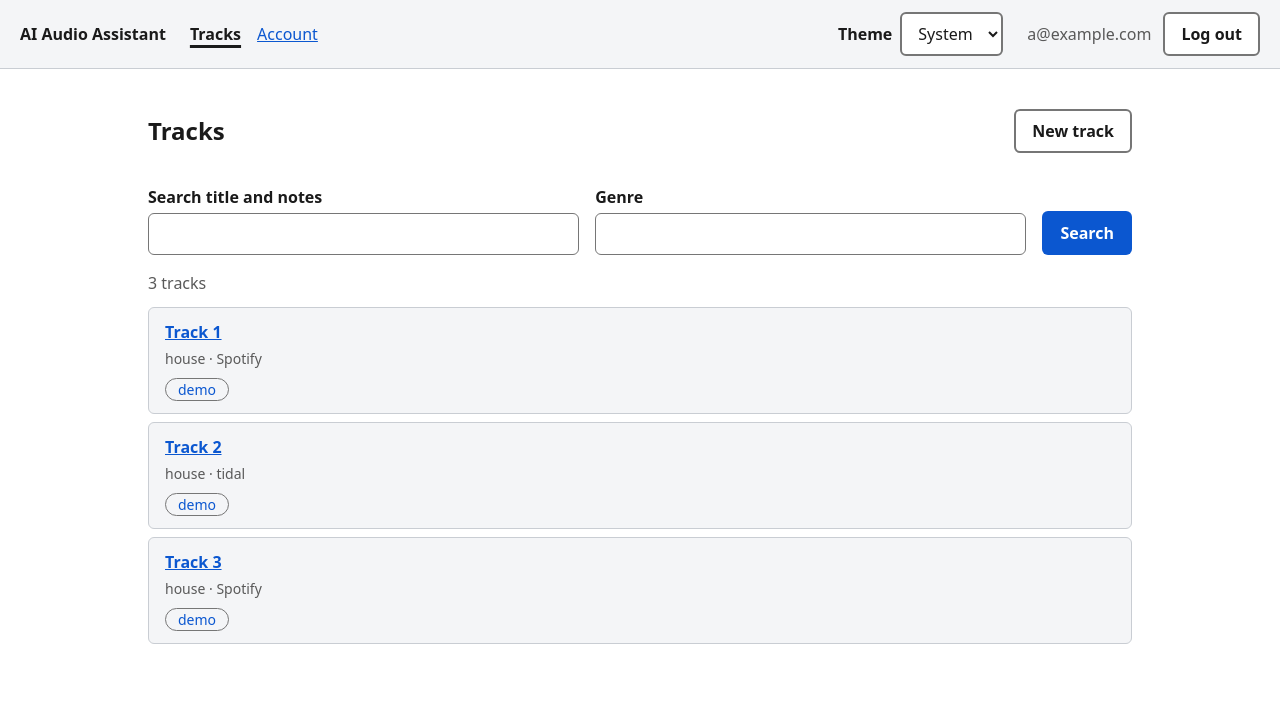
Test: creating a track › goes to the new track after saving
The width and height of the screenshot is (1280, 720).
Check: the link "Track 1" is shown, box [165,321,222,343]
Click the button "New track": (1073, 131) [1014,109,1132,153]
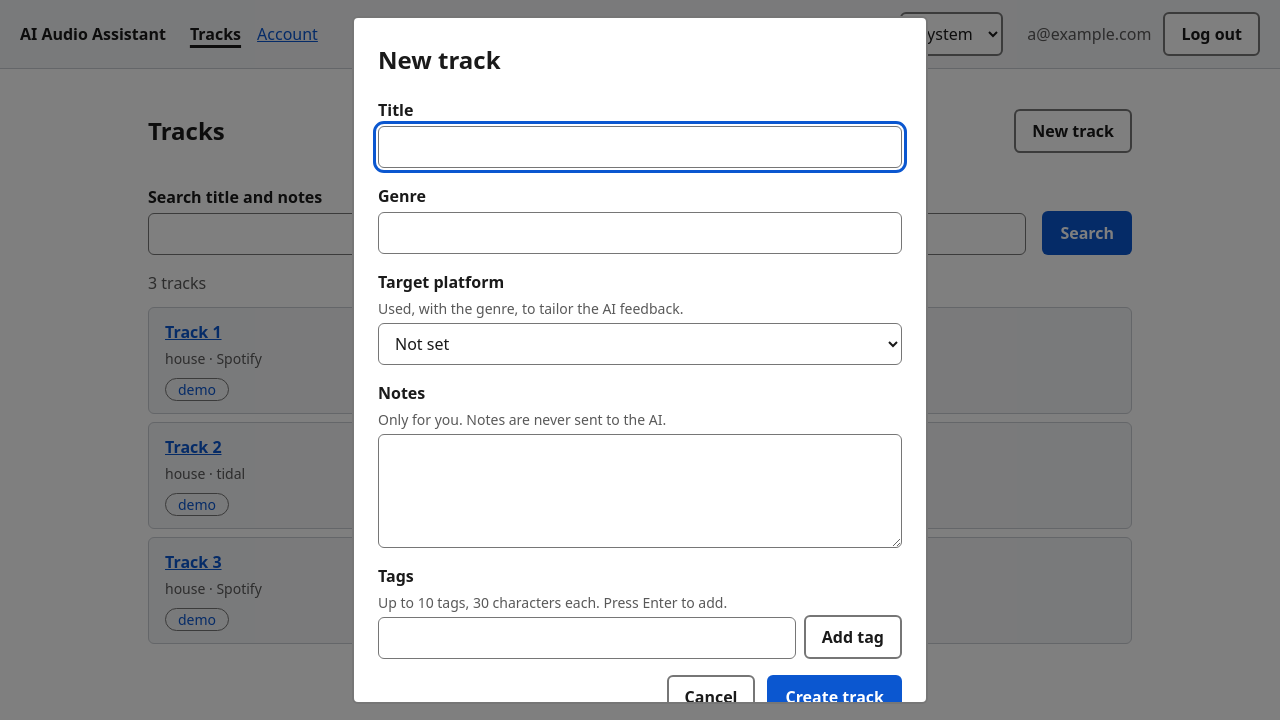
In the field labelled "Title": (640, 147) [378,126,902,168], type "Brand new"
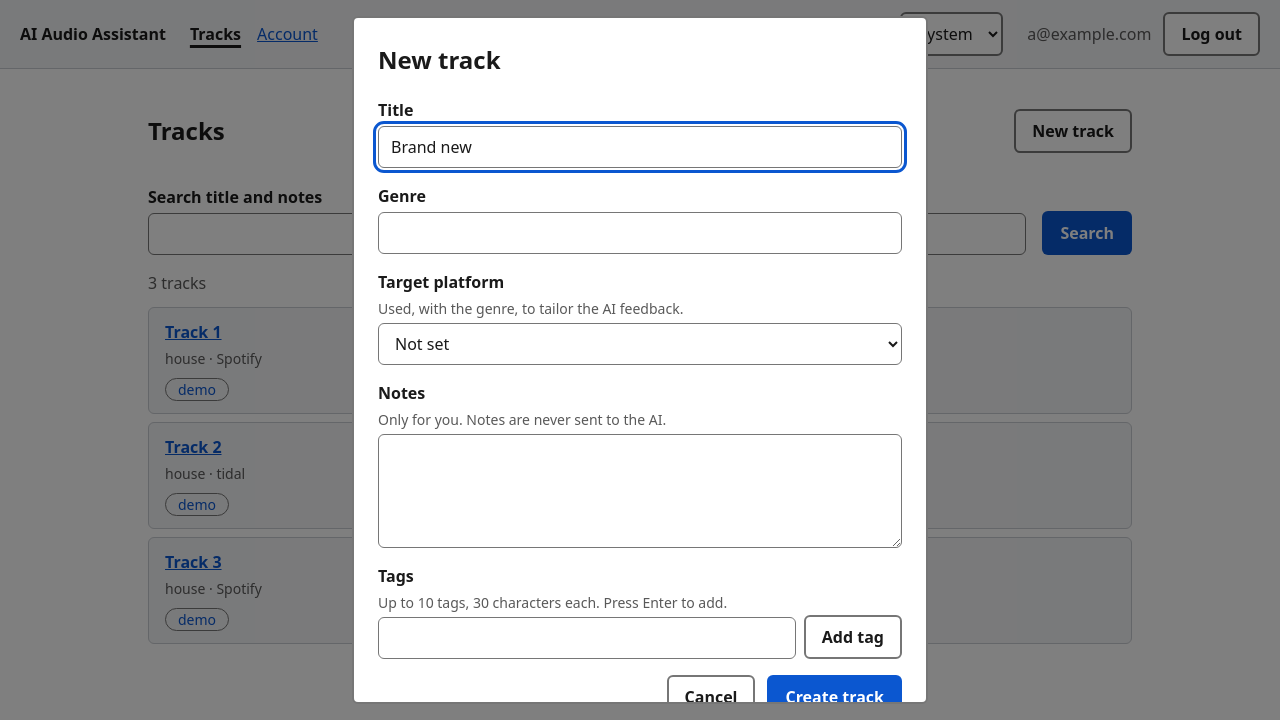
Click the button "Create track": (835, 697) [768,675,902,719]
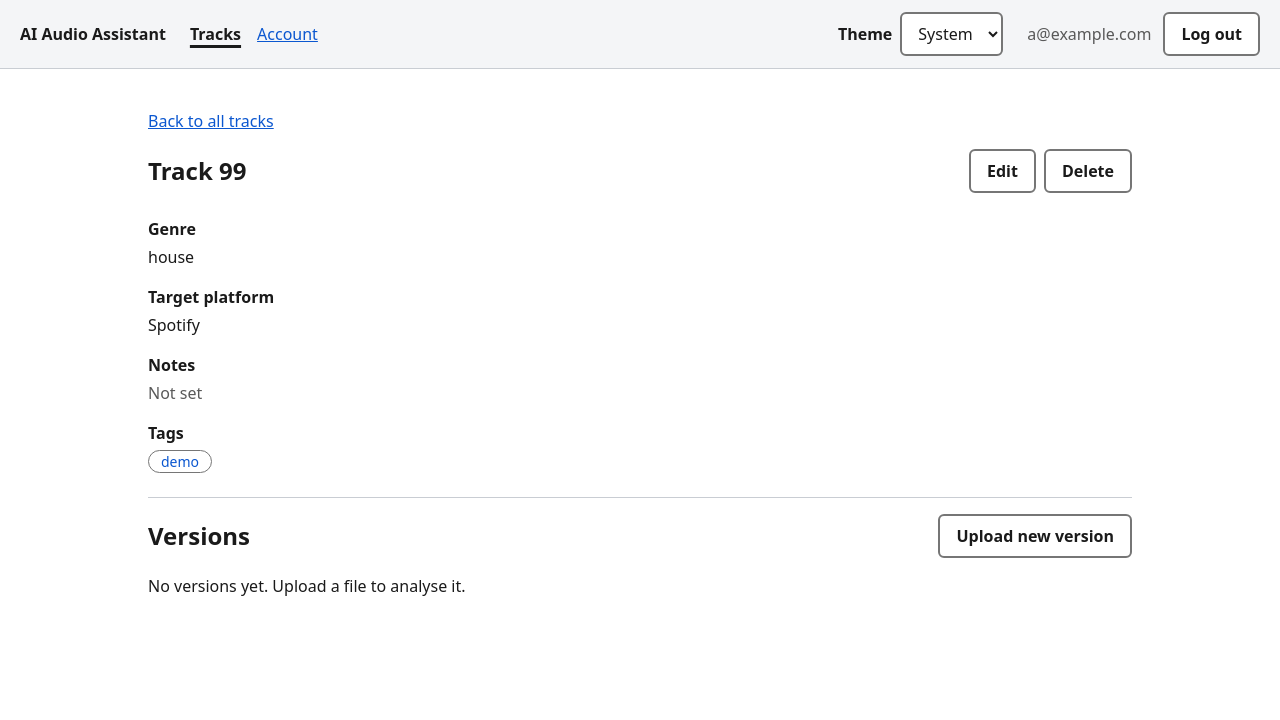
Check: the heading "Track 99" is shown, box [148,153,246,189]
